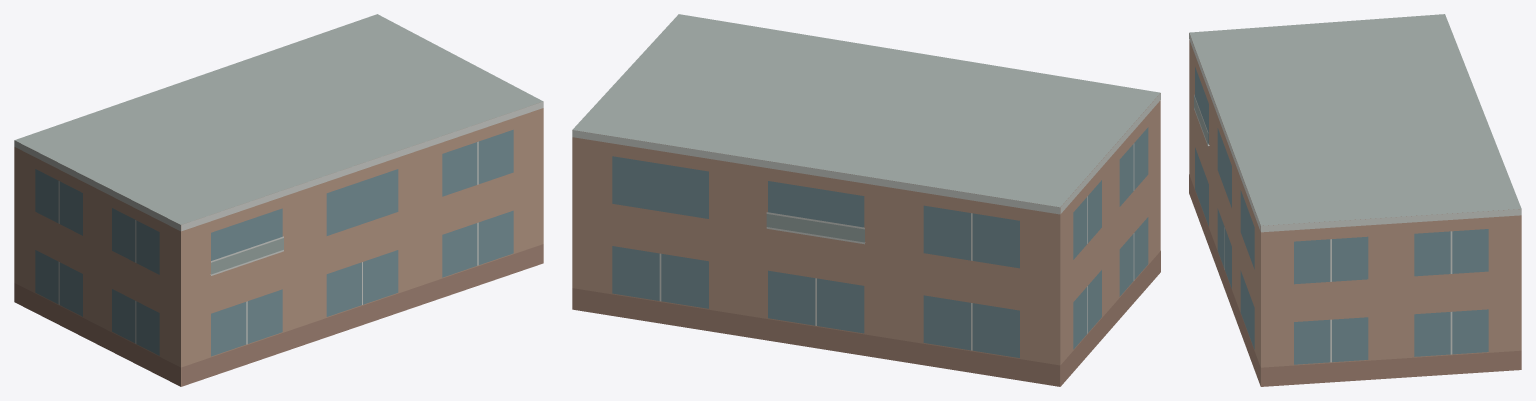
Rendered from survey-upis-32707585.glb.
3 renders of one model, left to right at view 1: azimuth 30°, elevation 25°; view 2: azimuth 150°, elevation 25°; view 3: azimuth 270°, elevation 25°, orthographic. The views are drawn at different scales.
Parts seen in each view (by area): view 1: survey-upis-32707585.tmp; view 2: survey-upis-32707585.tmp; view 3: survey-upis-32707585.tmp.
Part boxes in pixels (x1,y1,x2,y2): survey-upis-32707585.tmp: [14, 14, 543, 386]; survey-upis-32707585.tmp: [572, 14, 1160, 386]; survey-upis-32707585.tmp: [1189, 14, 1521, 386].
Bounding box in the file's own units: 17.23 × 6.1 × 11.43.
